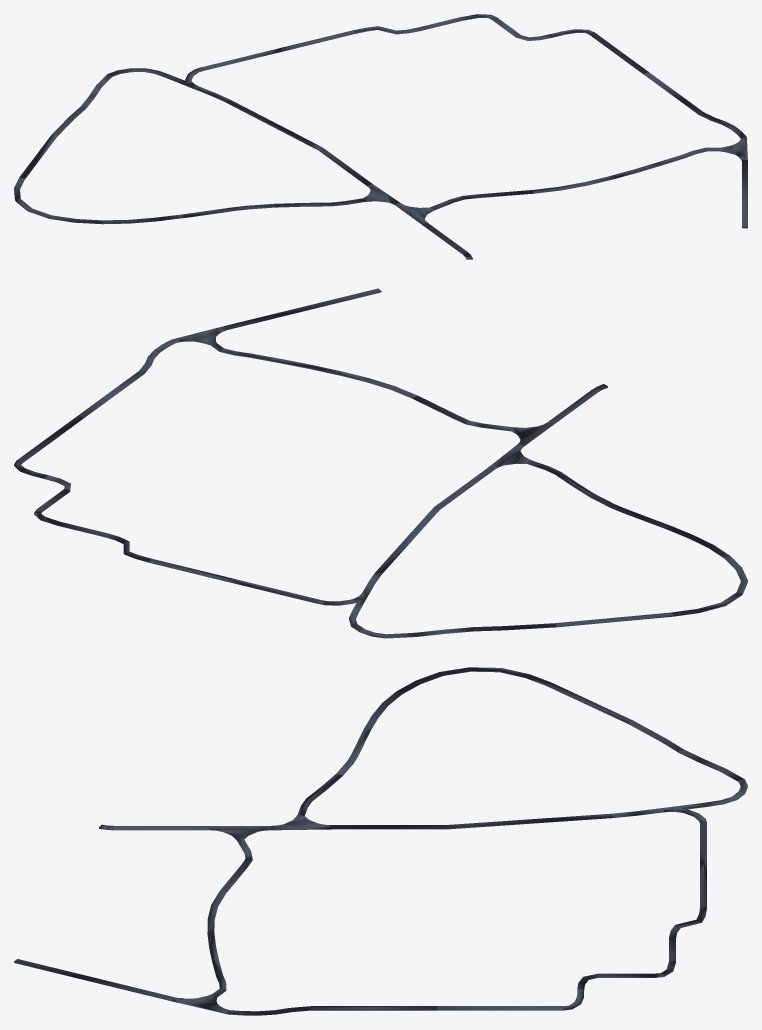
File: GC_Railway_Island2_LongDist.glb
The picture shows the model from 3 angles, top to bottom: view 1: azimuth 30°, elevation 25°; view 2: azimuth 150°, elevation 25°; view 3: azimuth 270°, elevation 25°; orthographic projection. The views are drawn at different scales.
Parts seen in each view (by area): view 1: GC_Railway_Island2_LongDist; view 2: GC_Railway_Island2_LongDist; view 3: GC_Railway_Island2_LongDist.
Boxes of the visible parts, left/top/right/bottom form: GC_Railway_Island2_LongDist: left=14, top=14, right=747, bottom=259; GC_Railway_Island2_LongDist: left=14, top=288, right=747, bottom=638; GC_Railway_Island2_LongDist: left=14, top=667, right=747, bottom=1015.
Bounding box in the file's own units: 1065 × 2.15 × 953.
